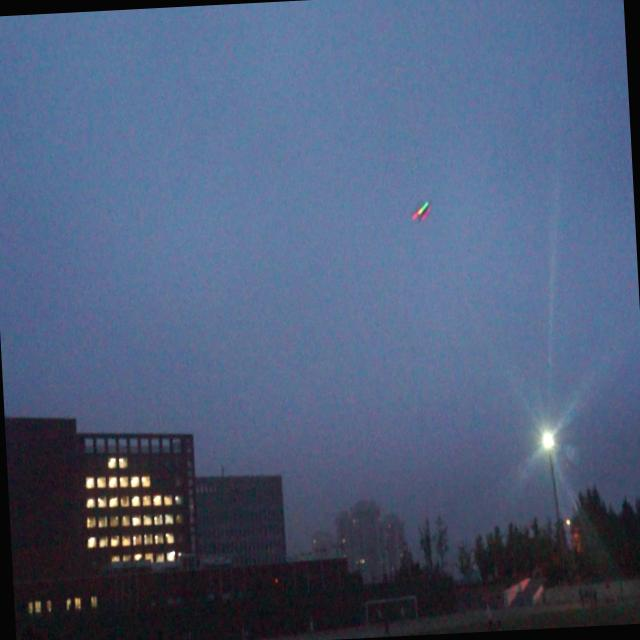drone: (408, 194, 434, 229)
